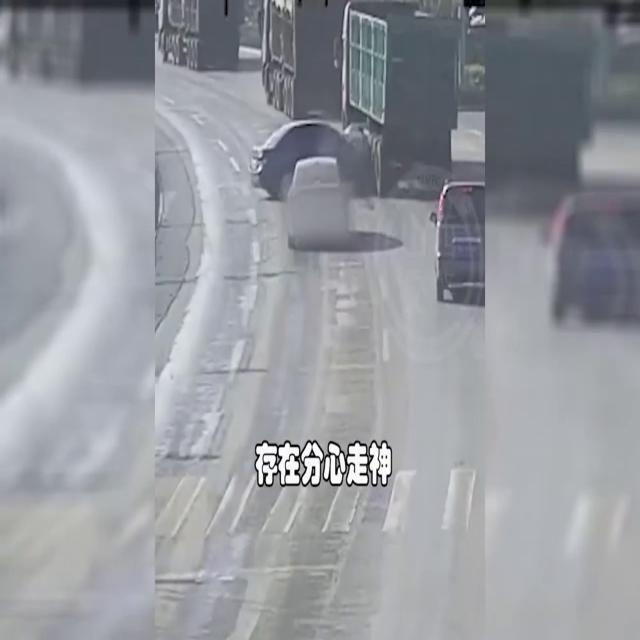accident: (250, 0, 460, 204)
